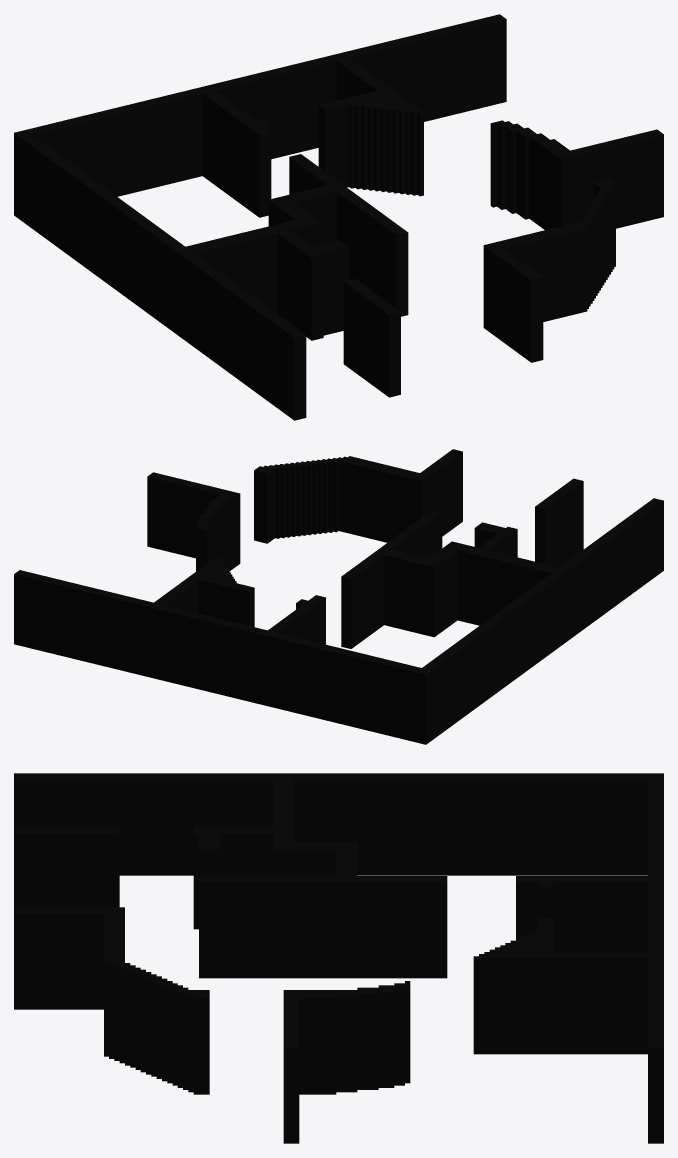
The model's file is HomeHide.obj.
3 views of the same model, one above another, from view 1: azimuth 30°, elevation 25°; view 2: azimuth 150°, elevation 25°; view 3: azimuth 270°, elevation 25° (orthographic). The views are drawn at different scales.
Bounding box in the file's own units: 12.3 × 2 × 12.3.
Materials: 1 (1 with a texture image).
